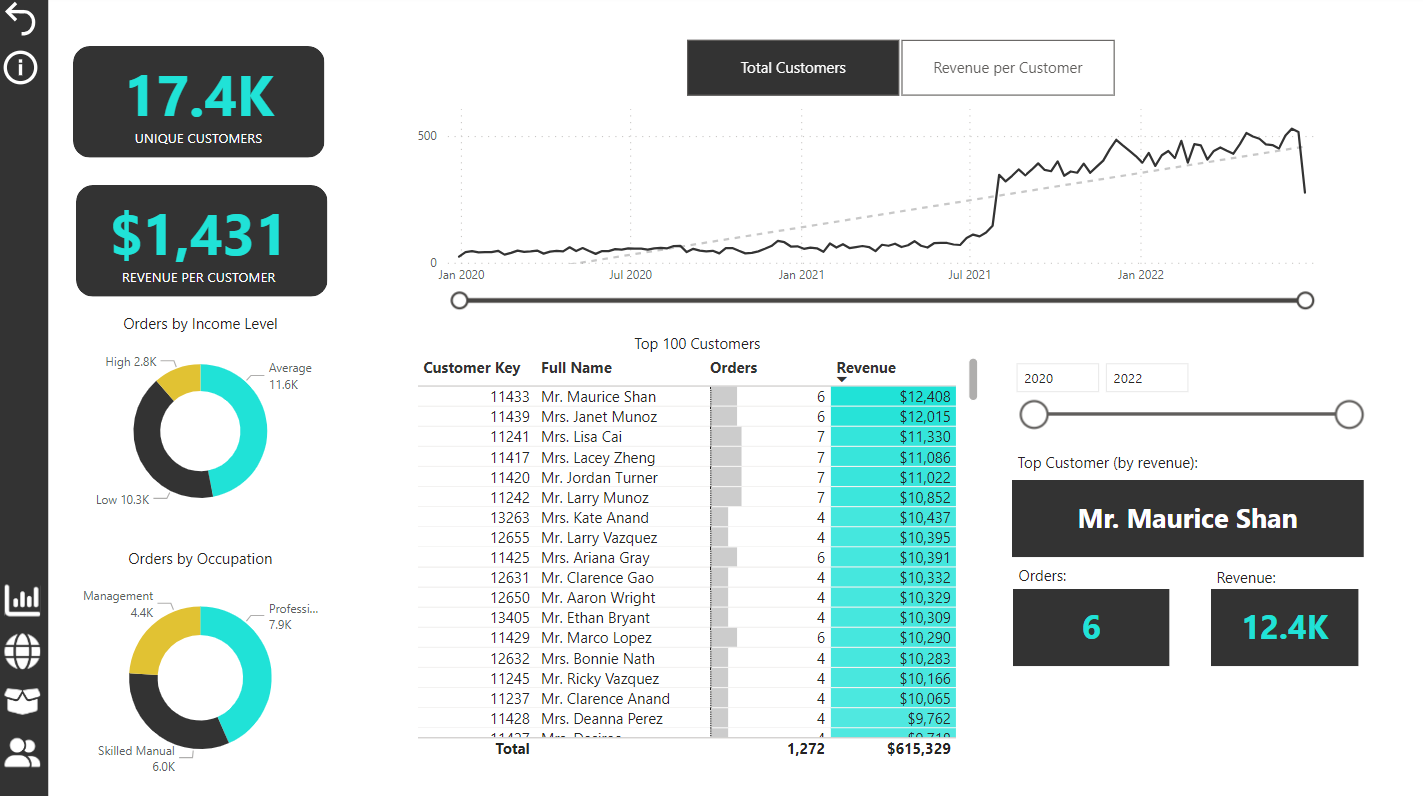

What the dashboard file says about the page in this screenshot:
{"tool":"powerbi","page":{"name":"Customer Detail","canvas":[1280,720],"ordinal":3},"visuals":[{"type":"shape","box":[70,169.1,225.5,100],"z":0},{"type":"shape","title":"Left Nav Background","box":[0,0,45,720],"z":1000},{"type":"actionButton","box":[1.8,521.2,51.9,40.3],"z":1000,"group":"g1"},{"type":"shape","box":[67.3,44.5,225.5,100],"z":2000},{"type":"actionButton","box":[1.8,657.3,51.9,40.3],"z":2000,"group":"g1"},{"type":"card","fields":{"Values":["Measure Table.Total Customers"]},"box":[79.1,43.6,201.8,100.9],"z":3000},{"type":"actionButton","box":[1.8,611.9,51.9,40.3],"z":3000,"group":"g1"},{"type":"card","fields":{"Values":["Measure Table.Average Revenue per Customer"]},"box":[79.1,168.2,201.8,100.9],"z":4000},{"type":"actionButton","box":[1.8,566.6,51.9,40.3],"z":4000,"group":"g1"},{"type":"lineChart","title":"Customers Trending","fields":{"Y":["Measure Table.Total Customers"],"Category":["Calendar Lookup.Date Hierarchy.Start of Year","Calendar Lookup.Date Hierarchy.Start of Month","Calendar Lookup.Date Hierarchy.Start of Week","Calendar Lookup.Date Hierarchy.Date"]},"box":[369.9,88.7,826.6,195.2],"z":5000},{"type":"donutChart","title":"Orders by Income Level","fields":{"Category":["Customer Lookup.Income Level"],"Y":["Measure Table.Total Orders"]},"box":[67.3,283.6,228.2,194.5],"z":6000},{"type":"donutChart","title":"Orders by Occupation","fields":{"Y":["Measure Table.Total Orders"],"Category":["Customer Lookup.Occupation"]},"box":[70,494.5,222.7,215.5],"z":7000},{"type":"tableEx","title":"Top 100 Customers","fields":{"Values":["Customer Lookup.CustomerKey","Customer Lookup.Full Name","Measure Table.Total Orders","Measure Table.Total Revenue"]},"box":[370,301.8,512.7,385.5],"z":8000},{"type":"card","fields":{"Values":["Measure Table.Full Name (Customer Detail)"]},"box":[908.2,433.6,314.5,69.1],"z":9000},{"type":"card","fields":{"Values":["Measure Table.Total Revenue (Customer Detail)"]},"box":[1086.4,530.9,131.8,69.1],"z":10000},{"type":"card","fields":{"Values":["Measure Table.Total Orders (Customer Detail)"]},"box":[909.1,530.9,140,69.1],"z":11000},{"type":"textbox","box":[908.2,403.6,196.4,30],"z":12000},{"type":"textbox","box":[909.1,505.5,98.2,31.8],"z":13000},{"type":"textbox","box":[1086.4,507.3,112.7,30],"z":14000},{"type":"slicer","fields":{"Values":["Calendar Lookup.Year"]},"box":[899.1,319.1,331.8,80.9],"z":15000},{"type":"actionButton","box":[0,43.9,44.8,40.3],"z":16000},{"type":"actionButton","box":[0,0,44.8,40.3],"z":17000},{"type":"group","id":"g1","title":"Navigation Keys","box":[1.8,521.2,51.9,176.4],"z":18000},{"type":"slicer","fields":{"Values":["Customer Metric Selection.Customer Metric Selection"]},"box":[591,32.2,432.5,63.6],"z":19000}]}

Visuals, with their boxes on the page's 1280x720 design canvas (x1, y1, x2, y2). These are canvas units, not pixel positions in the 1423x796 screenshot, which may show the page scaled, cropped or inside an application window:
shape: [70, 169, 296, 269]
"Left Nav Background" shape: [0, 0, 45, 720]
actionButton: [2, 521, 54, 562]
shape: [67, 44, 293, 144]
actionButton: [2, 657, 54, 698]
card - Measure Table.Total Customers: [79, 44, 281, 144]
actionButton: [2, 612, 54, 652]
card - Measure Table.Average Revenue per Customer: [79, 168, 281, 269]
actionButton: [2, 567, 54, 607]
"Customers Trending" lineChart: [370, 89, 1196, 284]
"Orders by Income Level" donutChart: [67, 284, 296, 478]
"Orders by Occupation" donutChart: [70, 494, 293, 710]
"Top 100 Customers" tableEx: [370, 302, 883, 687]
card - Measure Table.Full Name (Customer Detail): [908, 434, 1223, 503]
card - Measure Table.Total Revenue (Customer Detail): [1086, 531, 1218, 600]
card - Measure Table.Total Orders (Customer Detail): [909, 531, 1049, 600]
textbox: [908, 404, 1105, 434]
textbox: [909, 506, 1007, 537]
textbox: [1086, 507, 1199, 537]
slicer - Calendar Lookup.Year: [899, 319, 1231, 400]
actionButton: [0, 44, 45, 84]
actionButton: [0, 0, 45, 40]
"Navigation Keys" group: [2, 521, 54, 698]
slicer - Customer Metric Selection.Customer Metric Selection: [591, 32, 1024, 96]
